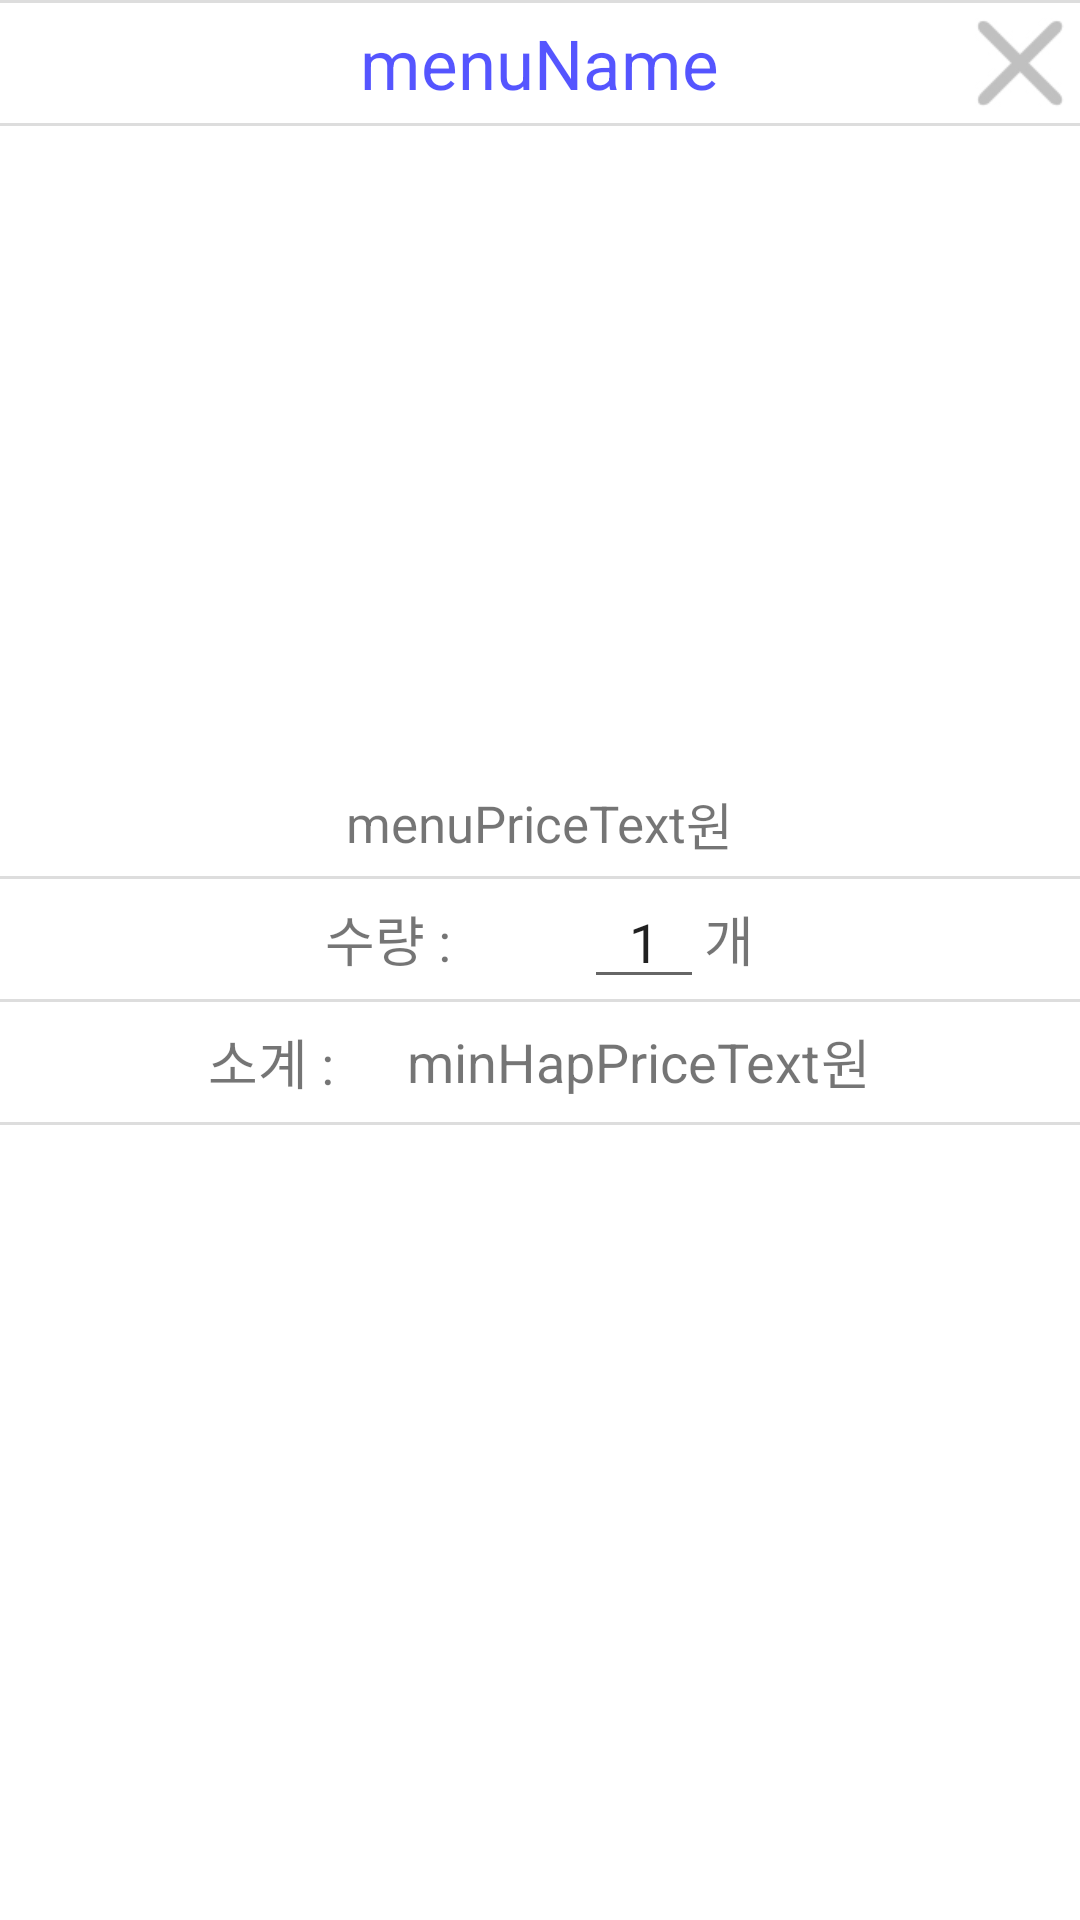

Icon click points for this 1080 × 1920 phone screenshot, format (x,y):
close: (1020,63)
